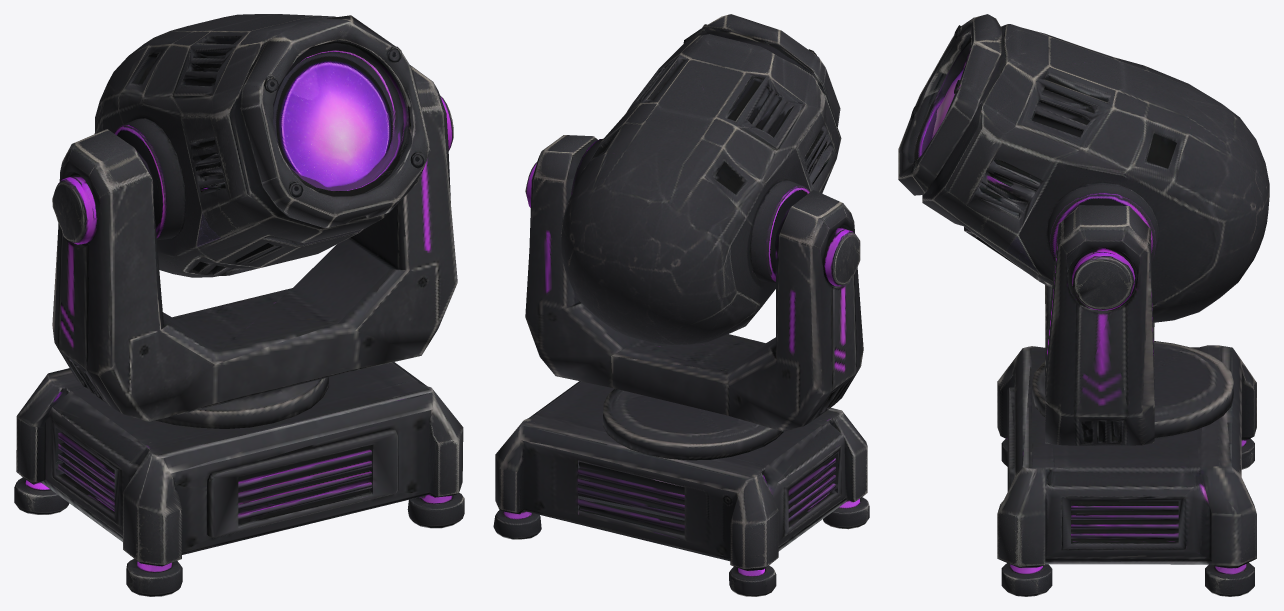
File: light.glb
3 renders of one model, left to right at view 1: azimuth 30°, elevation 25°; view 2: azimuth 150°, elevation 25°; view 3: azimuth 270°, elevation 25°, orthographic. The views are drawn at different scales.
Bounding box in the file's own units: 0.6782 × 0.9521 × 0.6455.
1 material, 1 textured.
